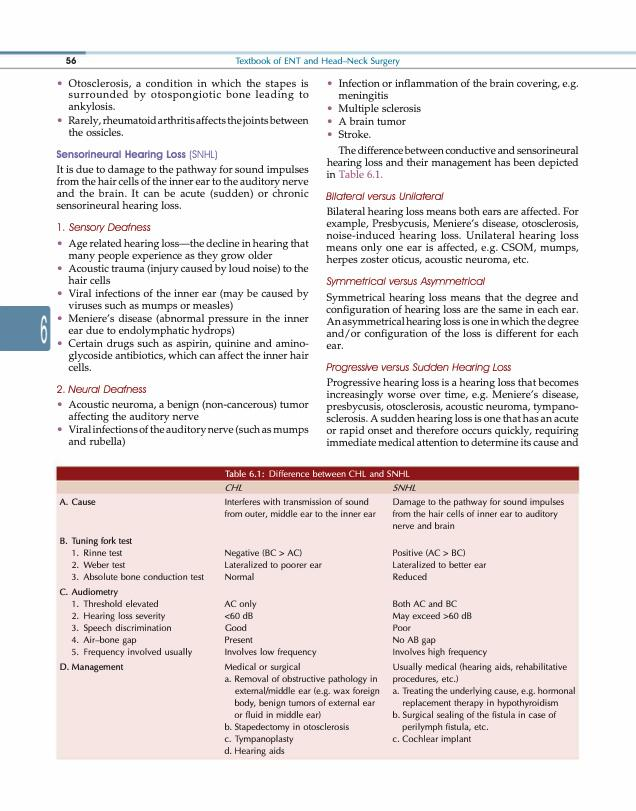caption: (224, 469, 411, 479)
header: (234, 56, 401, 67)
list: (54, 219, 311, 448), (55, 238, 310, 373), (326, 77, 580, 139), (55, 77, 310, 138), (55, 398, 311, 447)
sub-section-heading: (325, 362, 512, 374), (325, 275, 487, 288), (56, 149, 218, 161), (325, 190, 445, 202)
table: (56, 480, 579, 760)
text: (325, 376, 580, 447), (325, 207, 579, 268), (325, 291, 580, 351), (55, 163, 310, 213), (325, 145, 580, 180)
